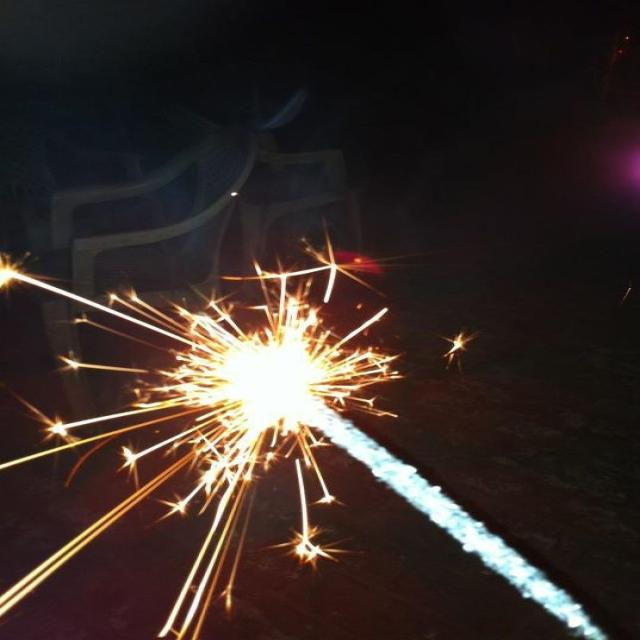fire: (201, 327, 327, 449)
